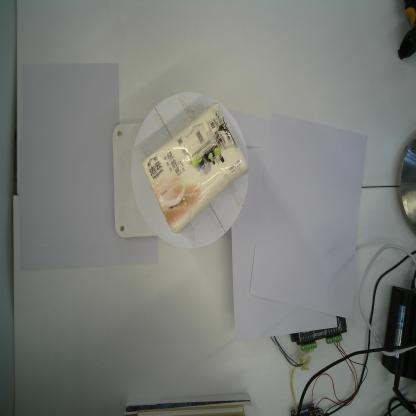Tissue: (140, 101, 251, 235)
